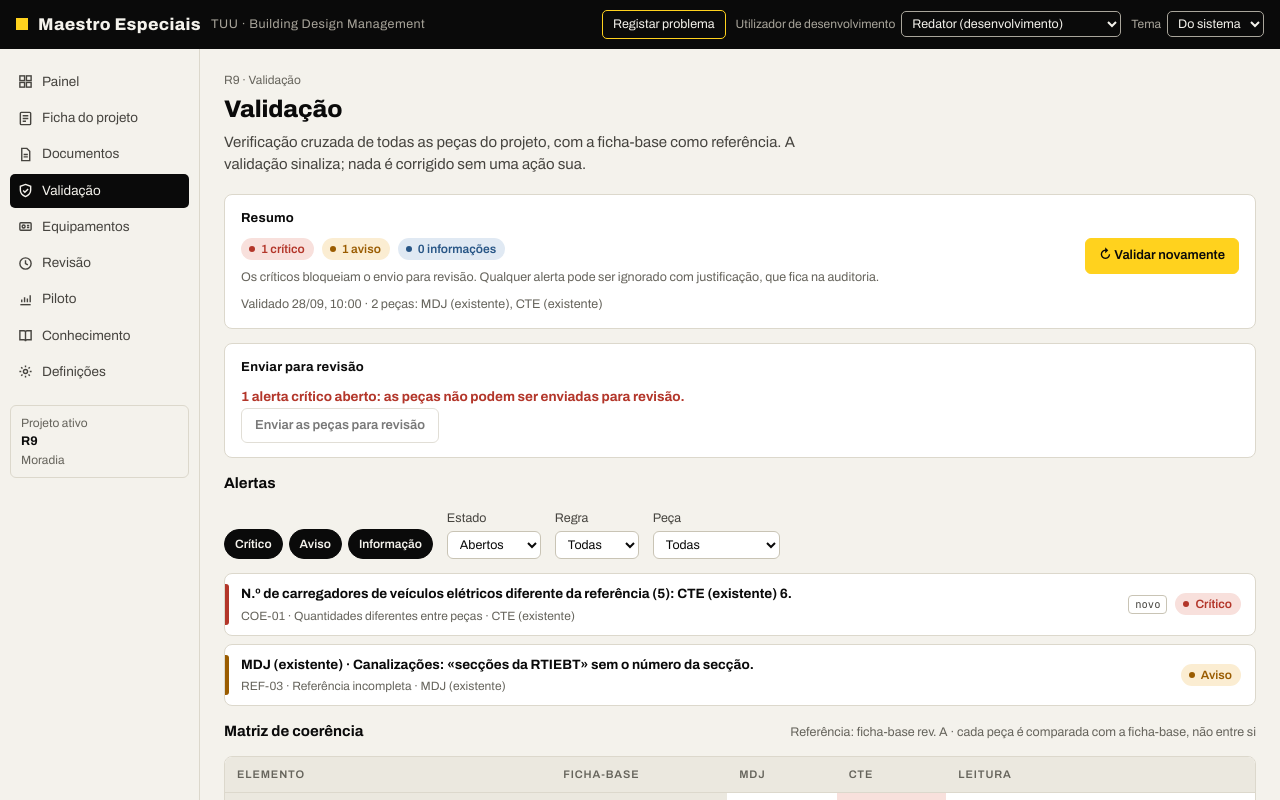
Test case: validation (screen E) › filters by severity
Click the button "Crítico". click: (253, 544)
box: [224,529,283,559]
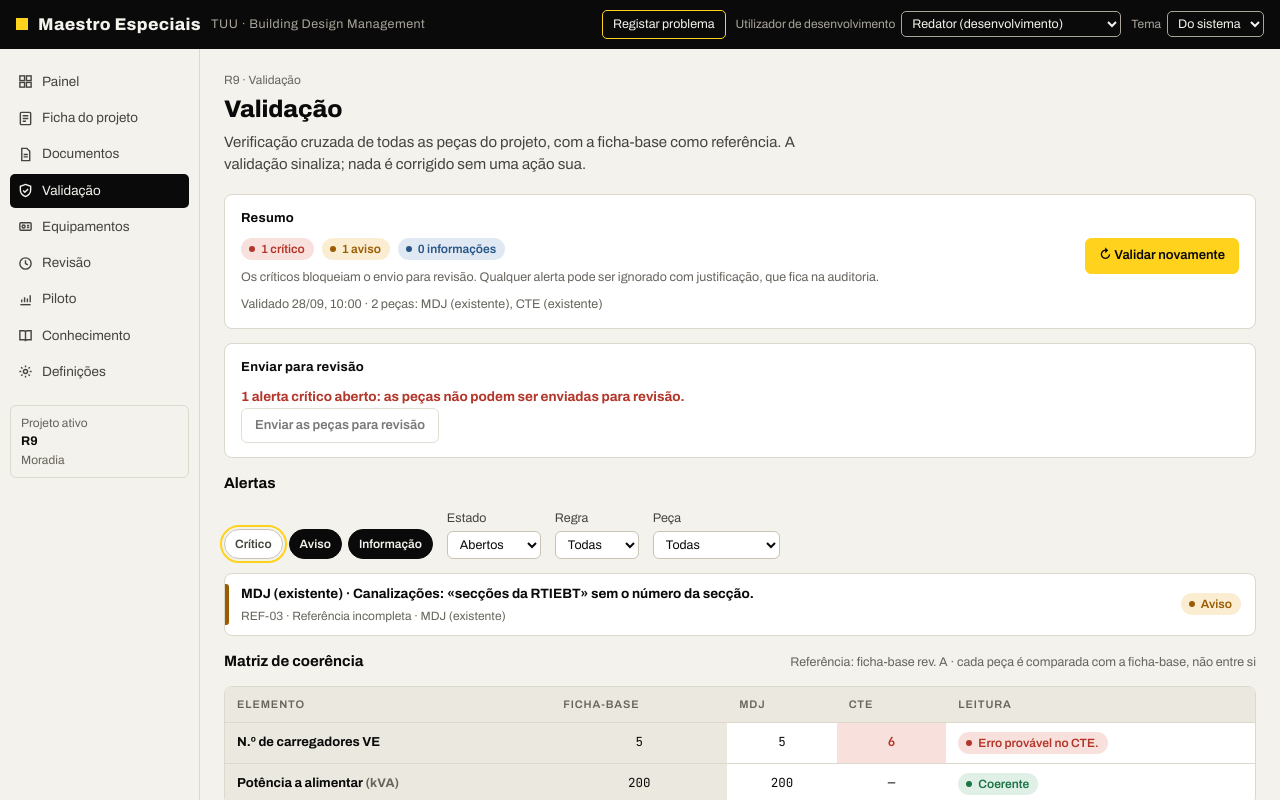
Expected: the text "sem o número da secção" is shown, [241,586,754,601]
Expected: the number of list items is 1, [224,573,1256,636]
